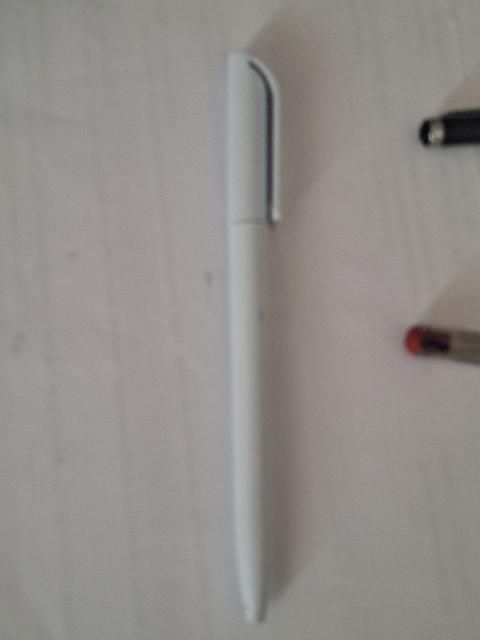writing_tool: (226, 44, 283, 627)
